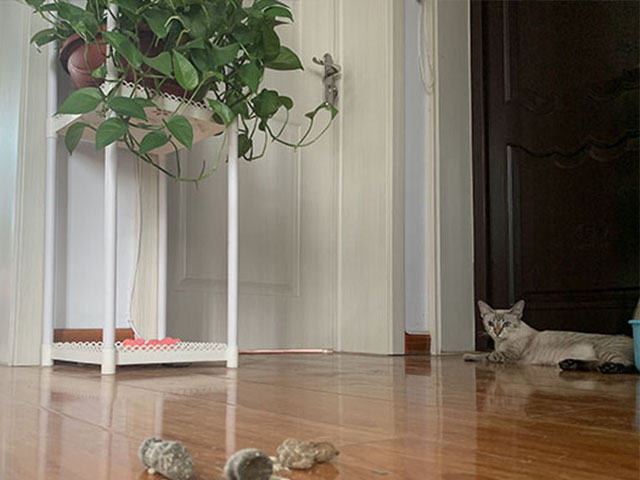feces: (138, 433, 195, 479), (278, 436, 342, 471), (223, 445, 276, 480)
